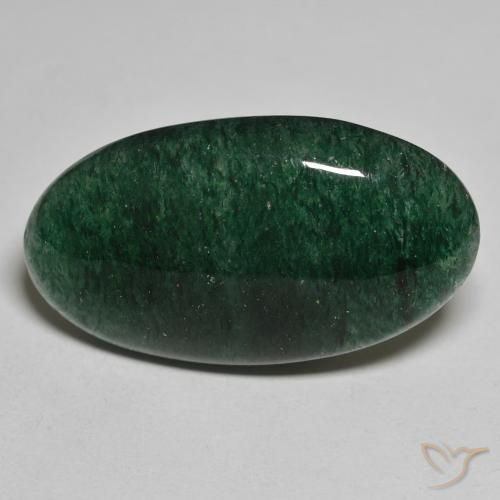Aventurine: (23, 113, 486, 373)
